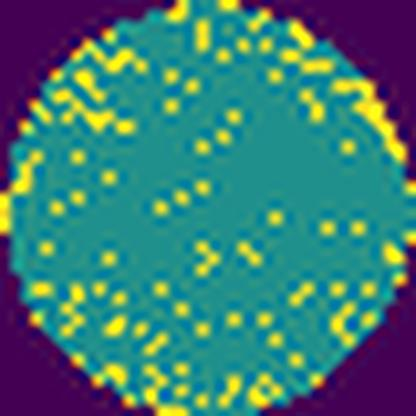Edge-Loc: (329, 72, 416, 167), (0, 146, 46, 235)
